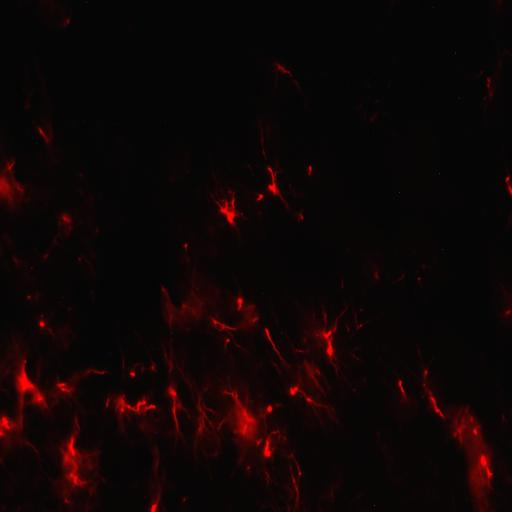microglia: (51, 418, 104, 502), (150, 264, 204, 335), (8, 345, 48, 413), (194, 379, 222, 458), (222, 380, 256, 442), (275, 106, 307, 164), (0, 154, 30, 215), (166, 378, 193, 443), (268, 50, 306, 96), (260, 321, 294, 372), (211, 187, 247, 235), (452, 404, 488, 446), (104, 393, 160, 419), (313, 302, 350, 341), (0, 402, 25, 457), (266, 158, 291, 210), (0, 236, 29, 280), (32, 114, 63, 152), (284, 450, 303, 512), (480, 80, 510, 119), (306, 396, 344, 426), (261, 425, 290, 461), (53, 0, 81, 36), (473, 446, 493, 496), (36, 308, 68, 339), (302, 358, 330, 393), (424, 386, 450, 423), (140, 483, 172, 512), (54, 204, 76, 244), (210, 311, 242, 337), (53, 374, 81, 402), (142, 448, 165, 482), (396, 373, 416, 410), (118, 356, 142, 386), (482, 69, 501, 102), (73, 255, 97, 281), (232, 285, 250, 317), (317, 339, 342, 362), (83, 360, 107, 383), (176, 236, 196, 263), (367, 260, 386, 288), (351, 305, 369, 333), (260, 396, 280, 420), (284, 378, 303, 403), (142, 357, 160, 383), (411, 262, 428, 289), (23, 286, 46, 304), (250, 188, 268, 206), (499, 299, 512, 323), (221, 337, 233, 361), (502, 173, 512, 201), (304, 158, 315, 179), (296, 208, 306, 221)
